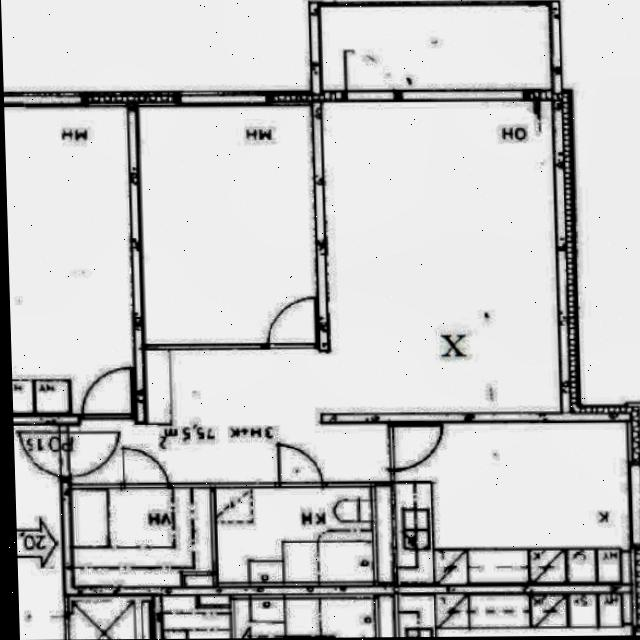room: (137, 103, 316, 347), (3, 105, 135, 417), (393, 423, 628, 585), (320, 7, 550, 90), (215, 487, 392, 582), (71, 489, 211, 585)
